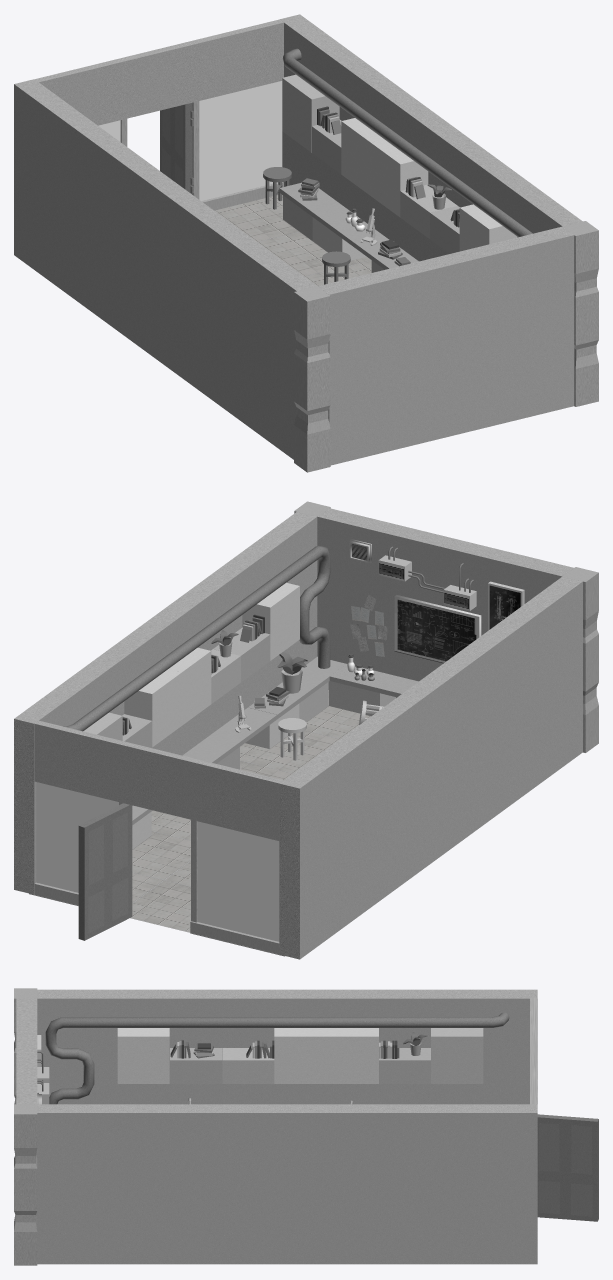
The model's file is Room2.fbx.
3 renders of one model, top to bottom at view 1: azimuth 30°, elevation 25°; view 2: azimuth 150°, elevation 25°; view 3: azimuth 270°, elevation 25°, orthographic. The views are drawn at different scales.
Visible parts, largest first — view 1: Wall1.024, Wall1.022, Wall1.023, Wall1.018, Wall1.027, Wall1.030, Wall1.031, Wall1.029, Wall1.028, Wall1.032, Cube.064, Cube.026 (+29 smaller); view 2: Wall1.018, Wall1.028, Wall1.024, Wall1.029, Wall1.031, Wall1.032, Wall1.027, Wall1.030, Cube.040, Cube.063, Wall1.022, Wall1.003 (+40 smaller); view 3: Wall1.003, Wall1.007, Wall1.026, Wall1.002, Wall1.006, Wall1.025, Wall1.032, Wall1.028, Cube.022, Cube.063, Wall1.029, Wall1.027 (+20 smaller).
Boxes of the visible parts, bbox=[...] form: Wall1.024: bbox=[481, 226, 574, 425]; Wall1.022: bbox=[399, 246, 492, 445]; Wall1.023: bbox=[318, 266, 410, 465]; Wall1.018: bbox=[32, 19, 284, 125]; Wall1.027: bbox=[61, 113, 128, 323]; Wall1.030: bbox=[108, 148, 175, 358]; Wall1.031: bbox=[202, 217, 269, 427]; Wall1.029: bbox=[155, 182, 222, 392]; Wall1.028: bbox=[14, 80, 80, 289]; Wall1.032: bbox=[250, 252, 316, 459]; Cube.064: bbox=[199, 81, 282, 200]; Cube.026: bbox=[294, 286, 330, 472]; Wall1.018: bbox=[34, 720, 286, 840]; Wall1.028: bbox=[279, 749, 346, 959]; Wall1.024: bbox=[317, 508, 410, 697]; Wall1.029: bbox=[421, 645, 488, 855]; Wall1.031: bbox=[468, 611, 535, 820]; Wall1.032: bbox=[516, 576, 582, 786]; Wall1.027: bbox=[327, 714, 394, 924]; Wall1.030: bbox=[374, 680, 441, 889]; Cube.040: bbox=[197, 821, 279, 941]; Cube.063: bbox=[78, 803, 132, 940]; Wall1.022: bbox=[399, 528, 491, 681]; Wall1.003: bbox=[14, 684, 81, 894]; Wall1.003: bbox=[454, 1104, 537, 1264]; Wall1.007: bbox=[287, 1104, 370, 1264]; Wall1.026: bbox=[37, 1104, 120, 1264]; Wall1.002: bbox=[371, 1104, 454, 1264]; Wall1.006: bbox=[204, 1104, 287, 1264]; Wall1.025: bbox=[120, 1104, 203, 1264]; Wall1.032: bbox=[37, 989, 120, 1104]; Wall1.028: bbox=[454, 989, 537, 1104]; Cube.022: bbox=[45, 1012, 509, 1104]; Cube.063: bbox=[537, 1114, 598, 1221]; Wall1.029: bbox=[204, 989, 287, 1104]; Wall1.027: bbox=[371, 989, 454, 1104].
Size of the model in its own units: 6.18 by 3.48 by 12.15.
